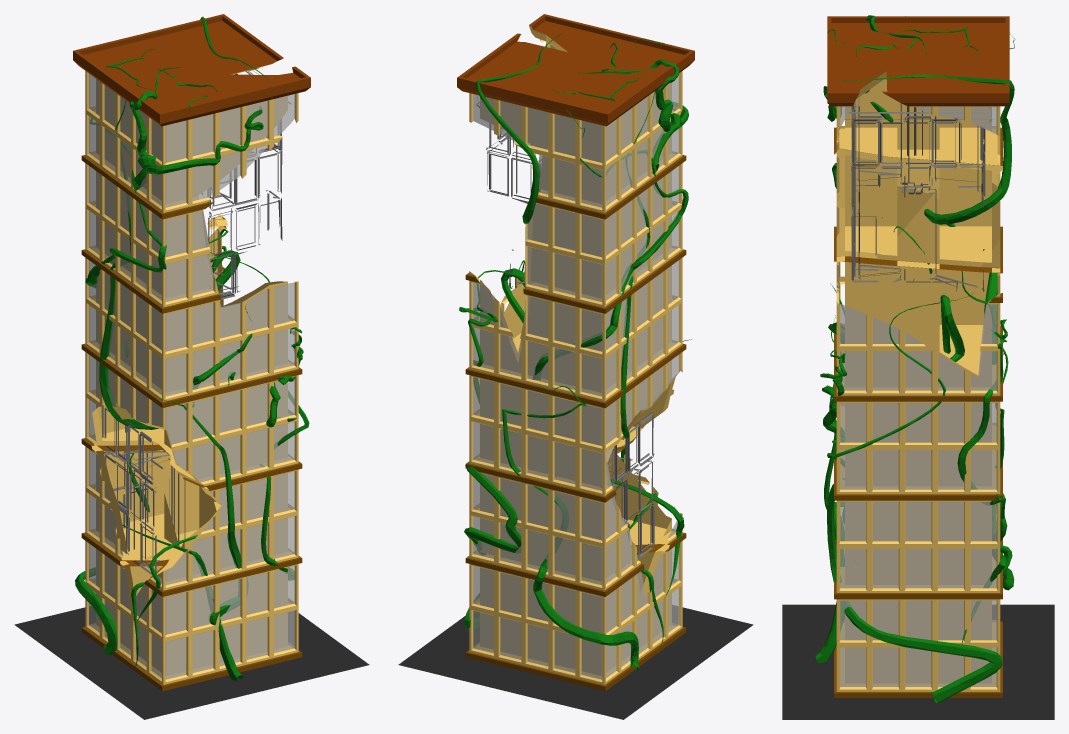
The model's file is base-section.glb.
3 views of the same model, side by side, from view 1: azimuth 30°, elevation 25°; view 2: azimuth 150°, elevation 25°; view 3: azimuth 270°, elevation 25° (orthographic). The views are drawn at different scales.
Parts seen in each view (by area): view 1: Bulding1, Roof, Vines, Ground, Bars-Buliding1; view 2: Bulding1, Roof, Vines, Ground, Bars-Buliding1; view 3: Bulding1, Ground, Roof, Vines, Bars-Buliding1.
Part boxes in pixels (left/top/right/bottom): Bulding1: left=81, top=66, right=302, bottom=691; Roof: left=73, top=14, right=310, bottom=126; Vines: left=75, top=16, right=309, bottom=681; Ground: left=14, top=606, right=369, bottom=719; Bars-Buliding1: left=101, top=70, right=290, bottom=575; Bulding1: left=465, top=25, right=686, bottom=691; Roof: left=457, top=14, right=694, bottom=126; Vines: left=459, top=28, right=691, bottom=670; Ground: left=398, top=605, right=753, bottom=719; Bars-Buliding1: left=476, top=102, right=654, bottom=572; Bulding1: left=834, top=71, right=1002, bottom=697; Ground: left=782, top=604, right=1054, bottom=719; Roof: left=827, top=16, right=1009, bottom=106; Vines: left=815, top=15, right=1015, bottom=703; Bars-Buliding1: left=845, top=97, right=991, bottom=291.
Size of what is drawn, in the model's own units: 50 by 125 by 50.
